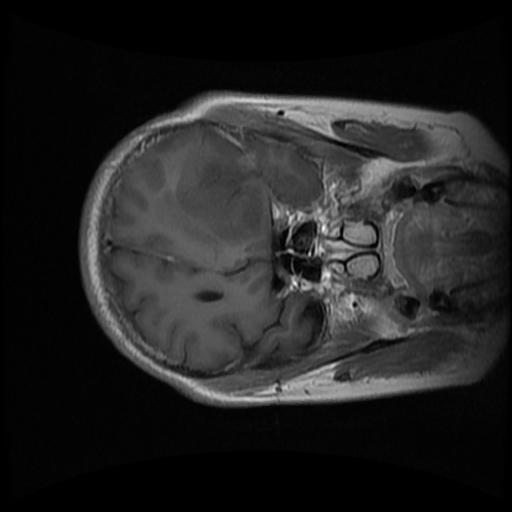glioma: (175, 130, 263, 242)
